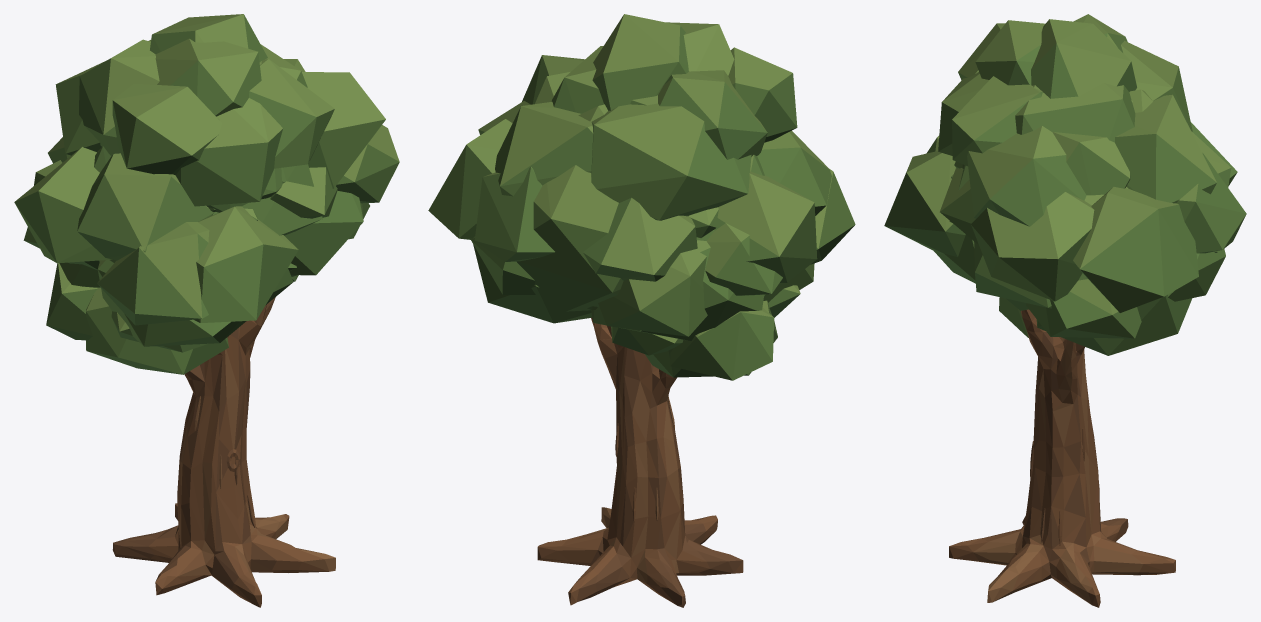
The model's file is tree_simple.glb.
3 views of the same model, side by side, from view 1: azimuth 30°, elevation 25°; view 2: azimuth 150°, elevation 25°; view 3: azimuth 270°, elevation 25° (orthographic). The views are drawn at different scales.
Parts seen in each view (by area): view 1: tree_simple; view 2: tree_simple; view 3: tree_simple.
Boxes of the visible parts, left/top/right/bottom form: tree_simple: left=14, top=14, right=399, bottom=607; tree_simple: left=428, top=14, right=855, bottom=607; tree_simple: left=884, top=14, right=1246, bottom=607.
Bounding box in the file's own units: 1.31 × 2 × 1.23.
